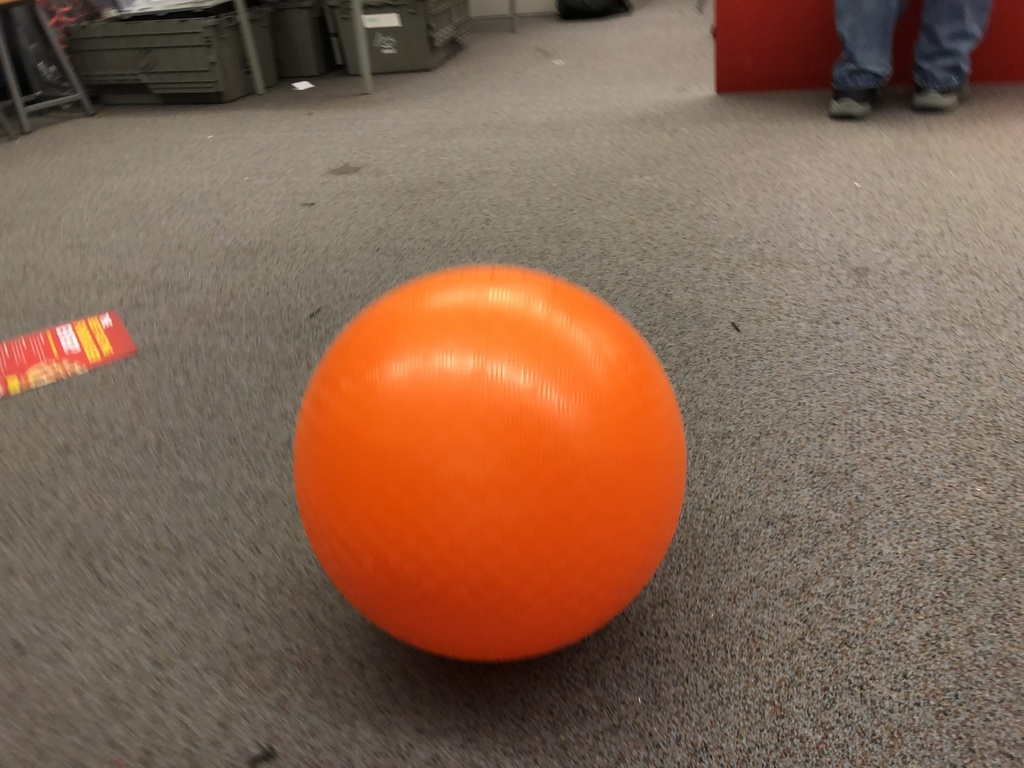cargo: (283, 251, 696, 688)
